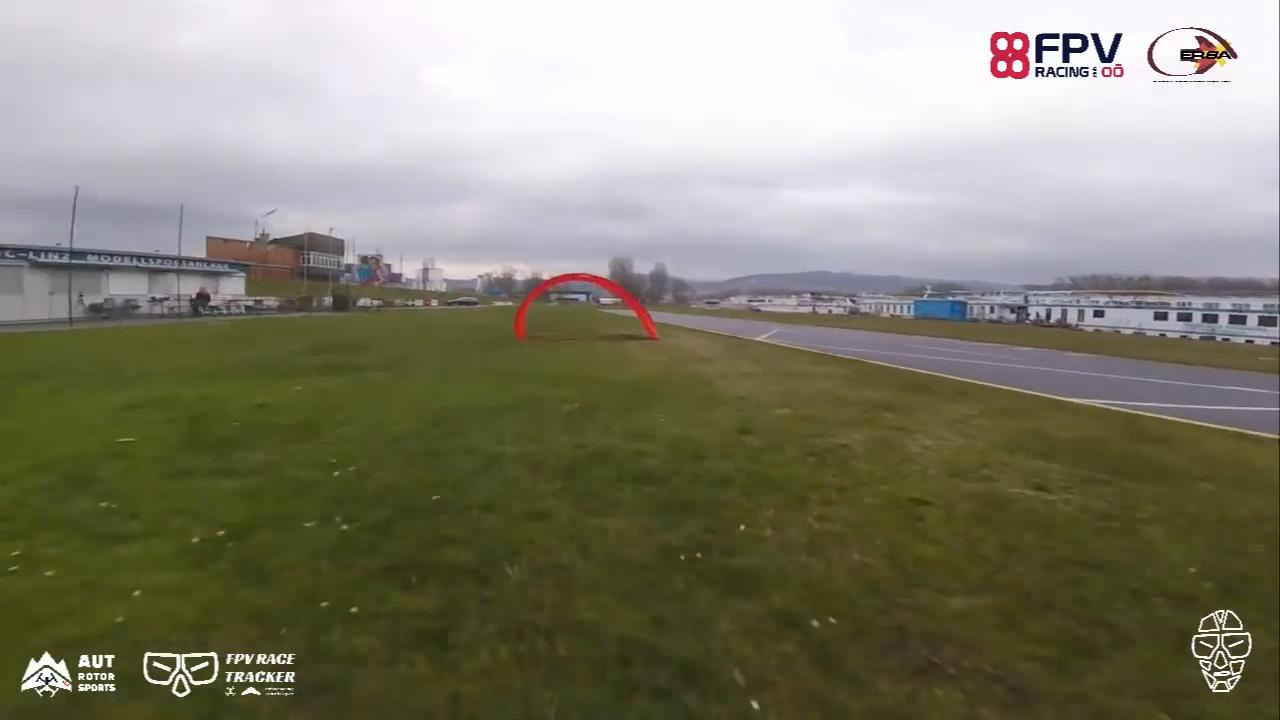gate: (510, 271, 667, 342)
